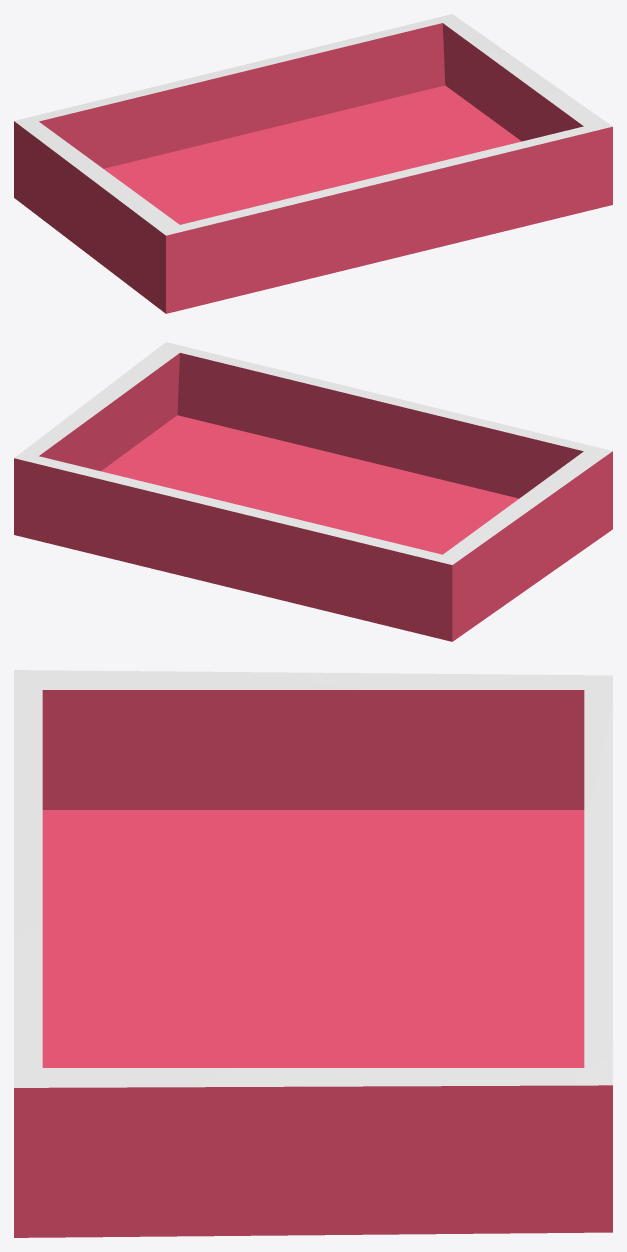
Rendered from Giftbox3-2.fbx.
The picture shows the model from 3 angles, top to bottom: view 1: azimuth 30°, elevation 25°; view 2: azimuth 150°, elevation 25°; view 3: azimuth 270°, elevation 25°; orthographic projection. The views are drawn at different scales.
Parts seen in each view (by area): view 1: Object015; view 2: Object015; view 3: Object015.
Part boxes in pixels (<box>): Object015: <box>14,14,612,313</box>; Object015: <box>14,342,612,641</box>; Object015: <box>14,670,612,1237</box>.
Bounding box in the file's own units: 20.44 × 3.42 × 12.38.
